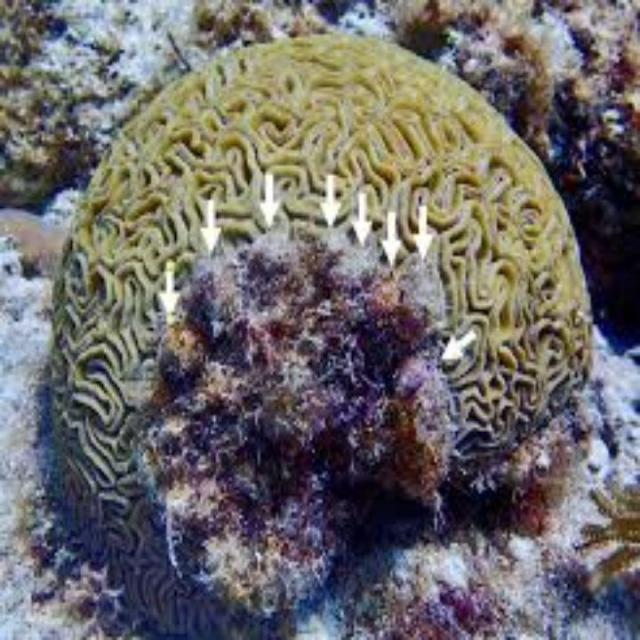Dead Coral: (125, 235, 468, 578)
